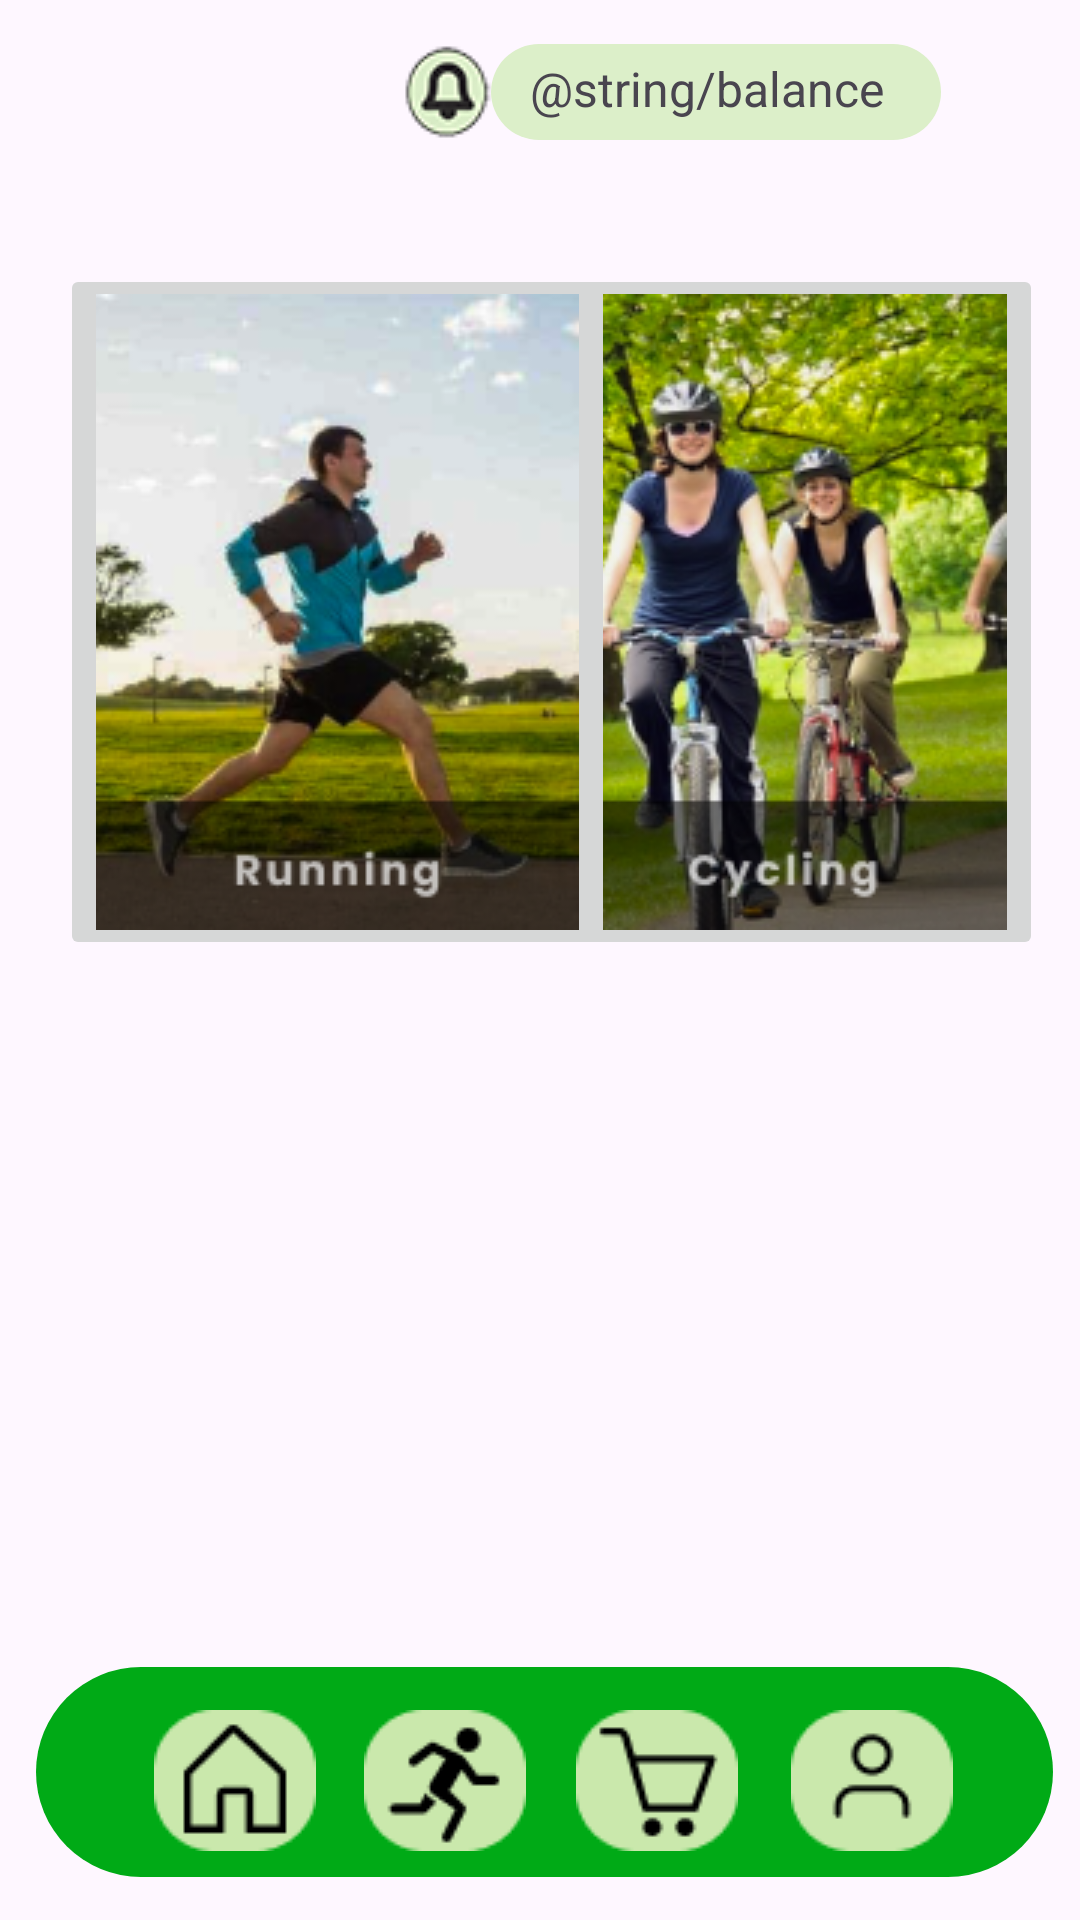

Screen size 1080*1920. Icon name, then its center in pixels as (x,y):
about: (872,1780)
home: (235,1780)
notification: (447,92)
running: (445,1780)
shop: (657,1780)
